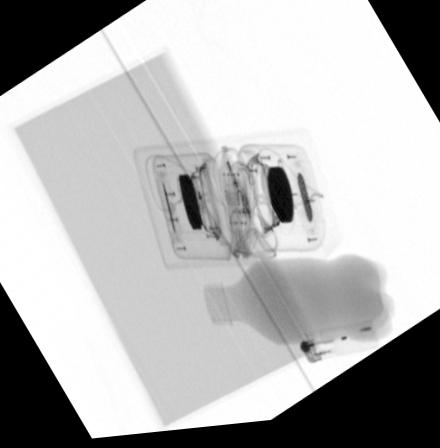Lighter: (298, 328, 378, 369)
